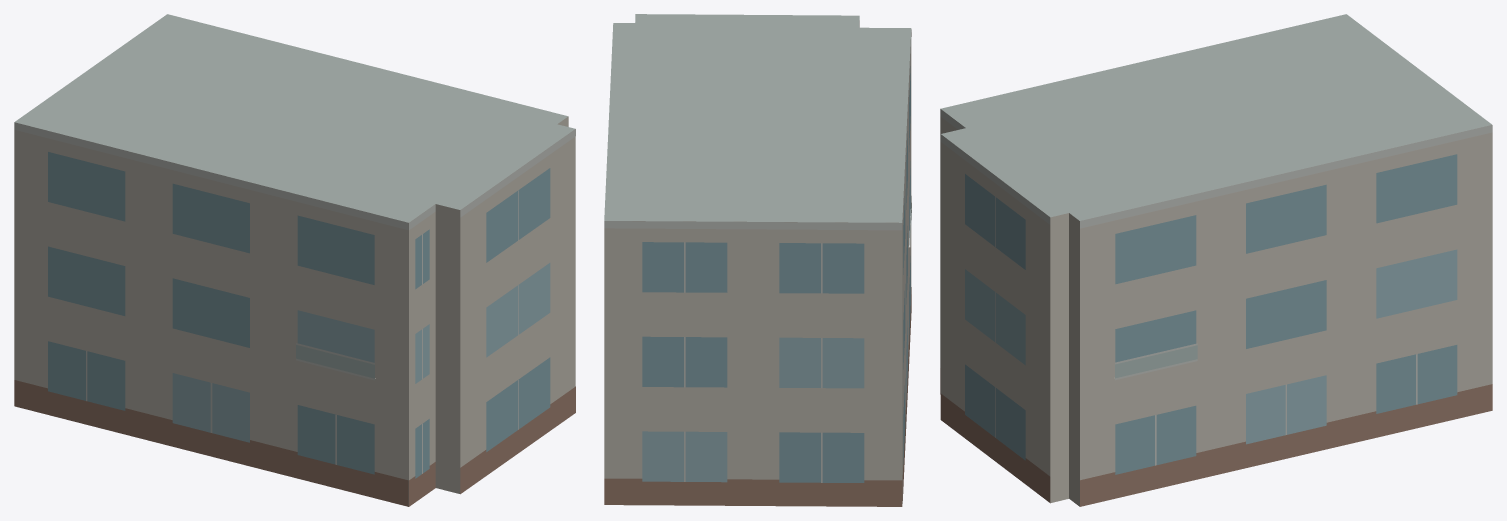
The model's file is survey-upis-32891427.glb.
3 views of the same model, side by side, from view 1: azimuth 30°, elevation 25°; view 2: azimuth 150°, elevation 25°; view 3: azimuth 270°, elevation 25° (orthographic).
Visible parts, largest first — view 1: survey-upis-32891427.tmp; view 2: survey-upis-32891427.tmp; view 3: survey-upis-32891427.tmp.
Part boxes in pixels (left/top/right/bottom): survey-upis-32891427.tmp: left=14, top=14, right=575, bottom=506; survey-upis-32891427.tmp: left=604, top=14, right=911, bottom=506; survey-upis-32891427.tmp: left=940, top=14, right=1492, bottom=506.
Bounding box in the file's own units: 14.22 × 9.15 × 16.03.
